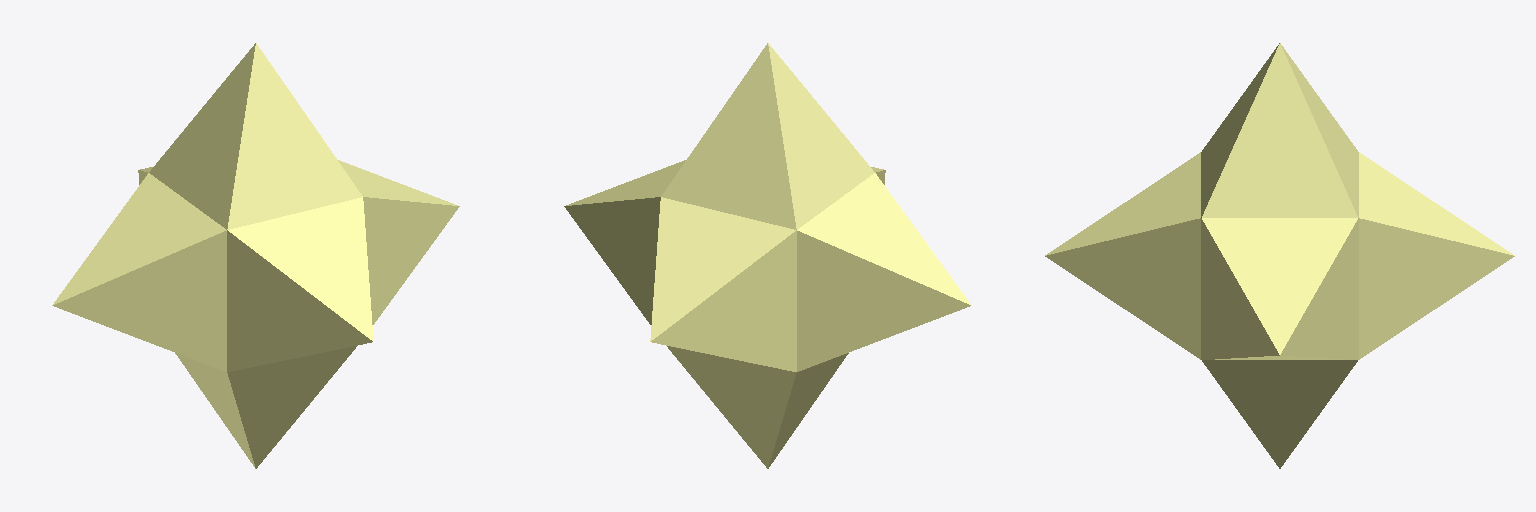
The picture shows the model from 3 angles: view 1: azimuth 30°, elevation 25°; view 2: azimuth 150°, elevation 25°; view 3: azimuth 270°, elevation 25°; orthographic projection.
Visible parts, largest first — view 1: Cube; view 2: Cube; view 3: Cube.
Boxes of the visible parts, box(x1,y1,x2,y2) form: Cube: box(52, 43, 459, 468); Cube: box(564, 43, 971, 468); Cube: box(1045, 43, 1514, 468).
Size of the model in its own units: 6 by 6 by 6.
1 materials, 1 textured.